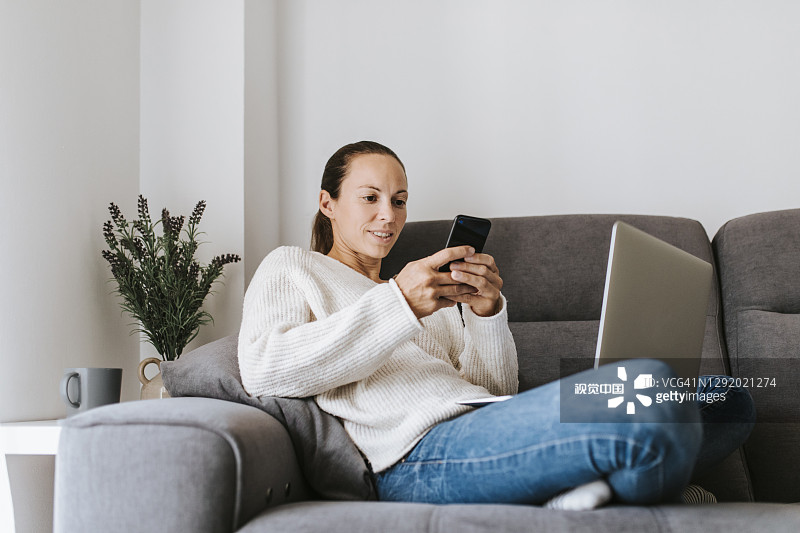reading: (389, 219, 519, 321)
